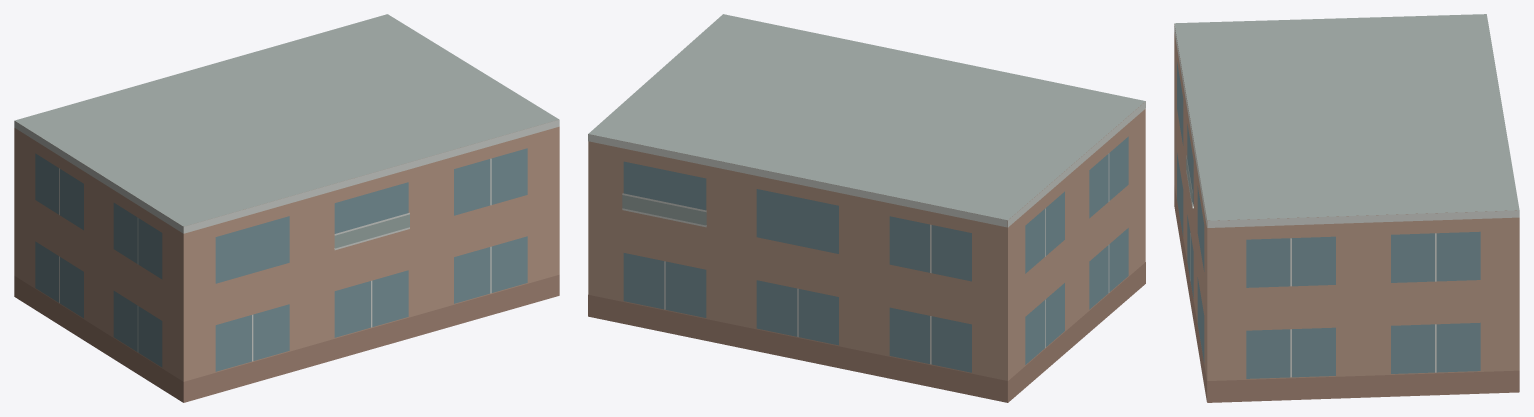
The model's file is survey-upis-32701307.glb.
The picture shows the model from 3 angles, left to right: view 1: azimuth 30°, elevation 25°; view 2: azimuth 150°, elevation 25°; view 3: azimuth 270°, elevation 25°; orthographic projection. The views are drawn at different scales.
Parts seen in each view (by area): view 1: survey-upis-32701307.tmp; view 2: survey-upis-32701307.tmp; view 3: survey-upis-32701307.tmp.
Part boxes in pixels (<box>): survey-upis-32701307.tmp: <box>14,14,559,402</box>; survey-upis-32701307.tmp: <box>588,14,1145,402</box>; survey-upis-32701307.tmp: <box>1174,14,1519,402</box>.
Bounding box in the file's own units: 14.87 × 6.1 × 10.49.
